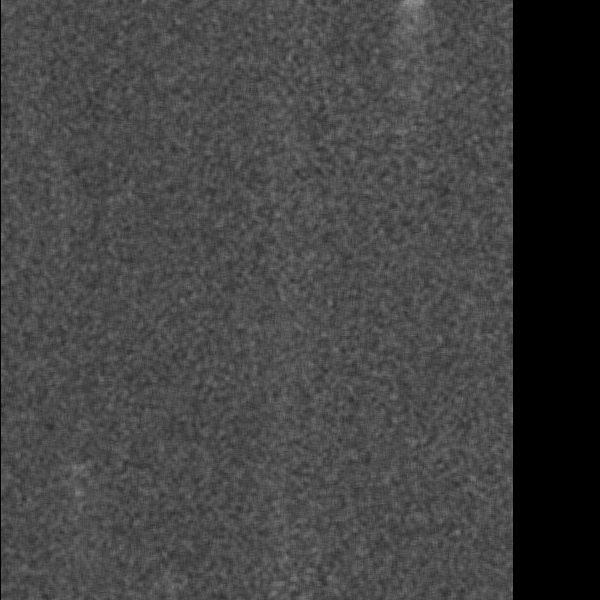spark: (164, 569, 178, 600), (69, 482, 86, 505)
